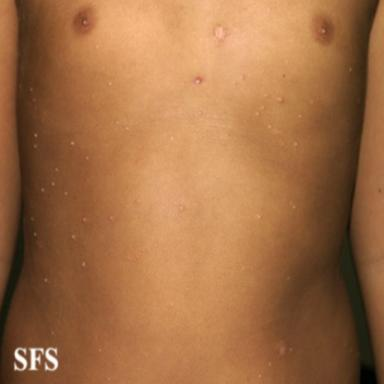Molluscum-Contagiosum: (214, 25, 225, 43), (278, 345, 287, 356), (194, 77, 203, 85), (241, 74, 247, 81), (179, 205, 185, 211), (277, 97, 283, 103), (135, 198, 142, 203), (91, 92, 95, 98), (115, 118, 119, 124), (293, 142, 298, 146), (83, 217, 87, 222), (198, 111, 203, 115), (255, 111, 259, 116), (82, 262, 85, 268), (71, 235, 75, 239), (43, 278, 47, 282), (109, 216, 113, 220), (257, 215, 261, 219), (55, 168, 59, 172), (71, 141, 75, 145), (85, 156, 89, 160), (170, 136, 173, 141), (34, 133, 37, 138), (349, 68, 352, 72), (310, 100, 313, 104), (41, 188, 44, 192), (52, 182, 55, 186), (64, 192, 67, 195), (165, 112, 167, 116), (126, 118, 128, 122), (269, 363, 271, 366), (170, 139, 173, 141), (171, 132, 173, 134), (226, 134, 227, 137)
